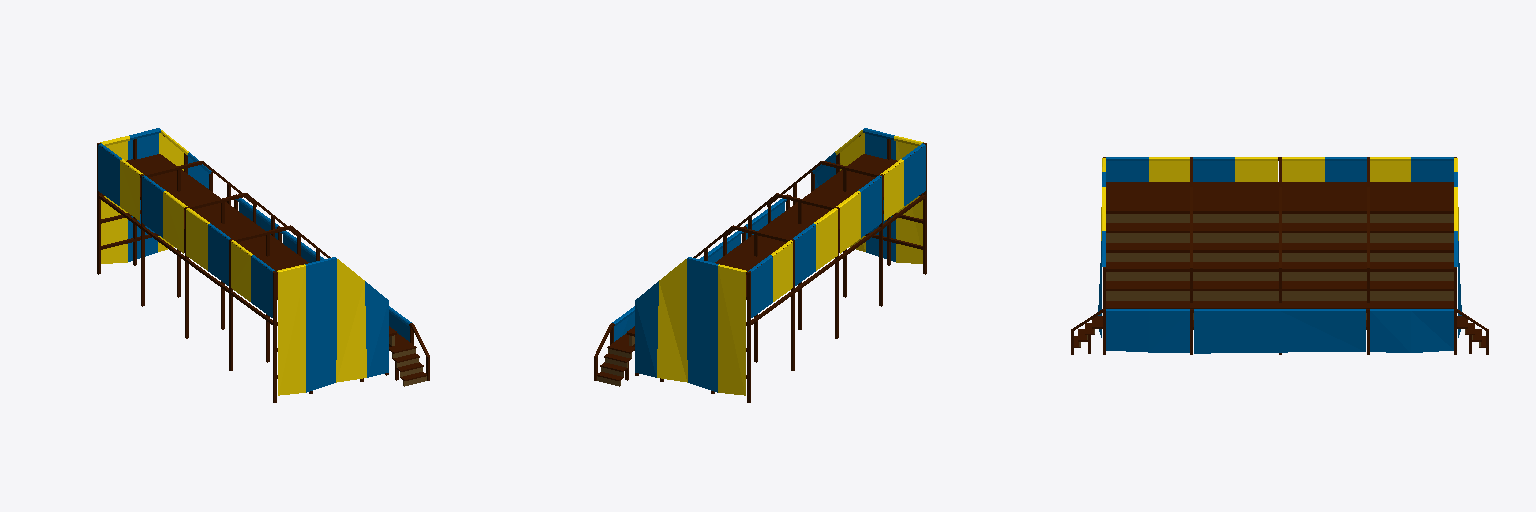
The model's file is Platform_yellow_blue.obj.
3 views of the same model, side by side, from view 1: azimuth 30°, elevation 25°; view 2: azimuth 150°, elevation 25°; view 3: azimuth 270°, elevation 25° (orthographic).
Parts seen in each view (by area): view 1: Platform_01; view 2: Platform_01; view 3: Platform_01.
Part boxes in pixels (x1,y1,x2,y2): Platform_01: (97,128,429,402); Platform_01: (594,128,926,402); Platform_01: (1071,157,1488,354).
Size of the model in its own units: 5.63 by 4.96 by 14.4.